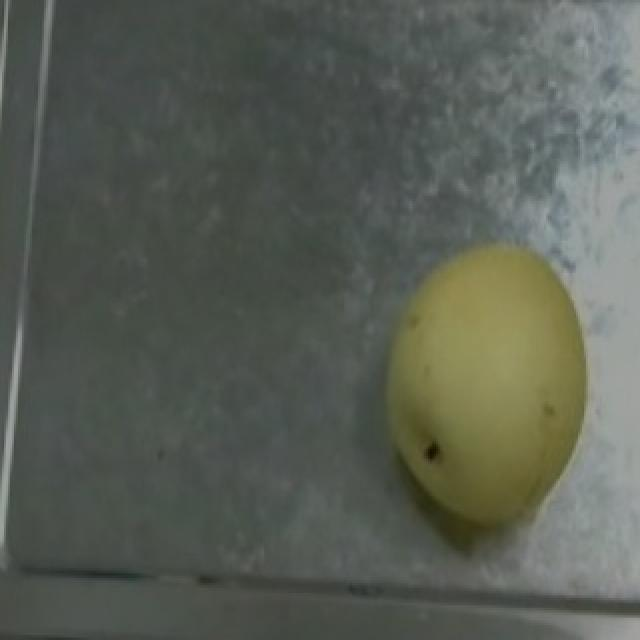Fruit: (356, 216, 606, 536)
